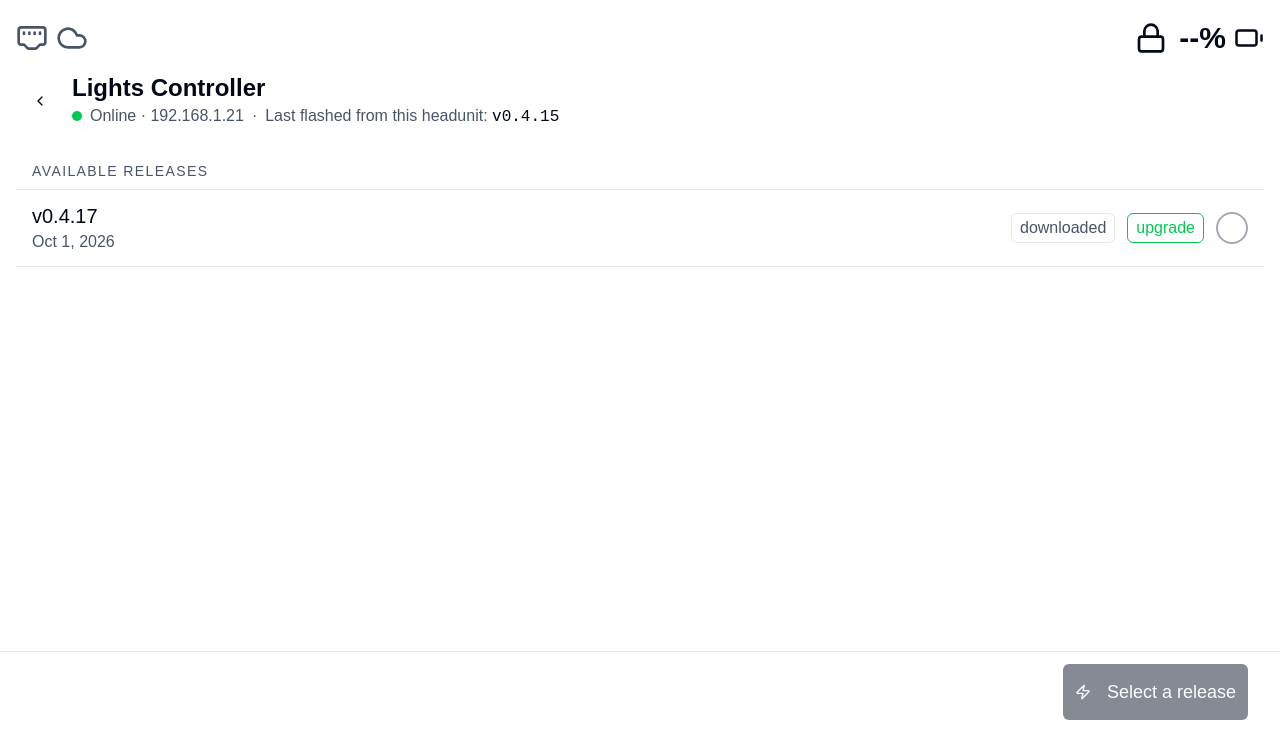
a stale speed does not block; main has the last word
This screenshot has width=1280, height=732.
Click the radio button labelled "v0.4.17 Oct 1, 2026 downloaded upgrade" at (65, 216), box [16,190,1264,266]
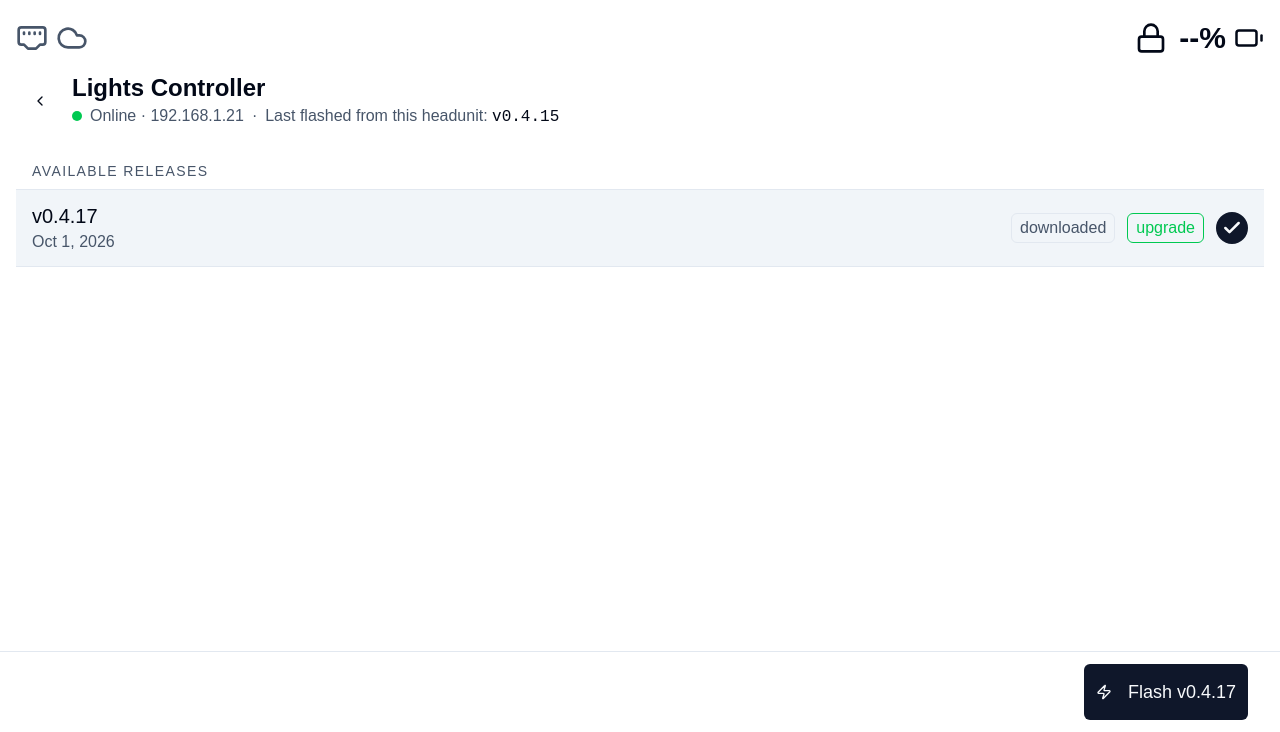
Expected: the button "Flash v0.4.17" is enabled, [1084,664,1248,720]
